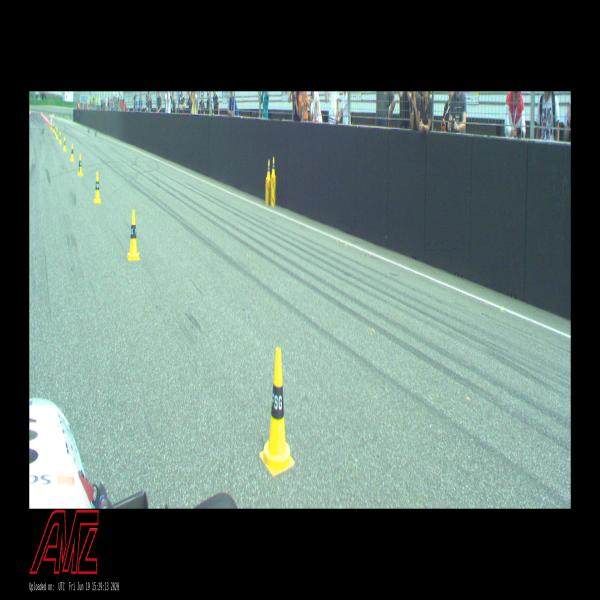yellow_cone: (259, 347, 295, 475), (128, 210, 140, 260), (94, 171, 101, 203), (77, 154, 83, 176), (271, 156, 276, 178), (266, 159, 270, 179), (70, 144, 74, 161), (63, 137, 67, 151), (58, 132, 62, 144)
